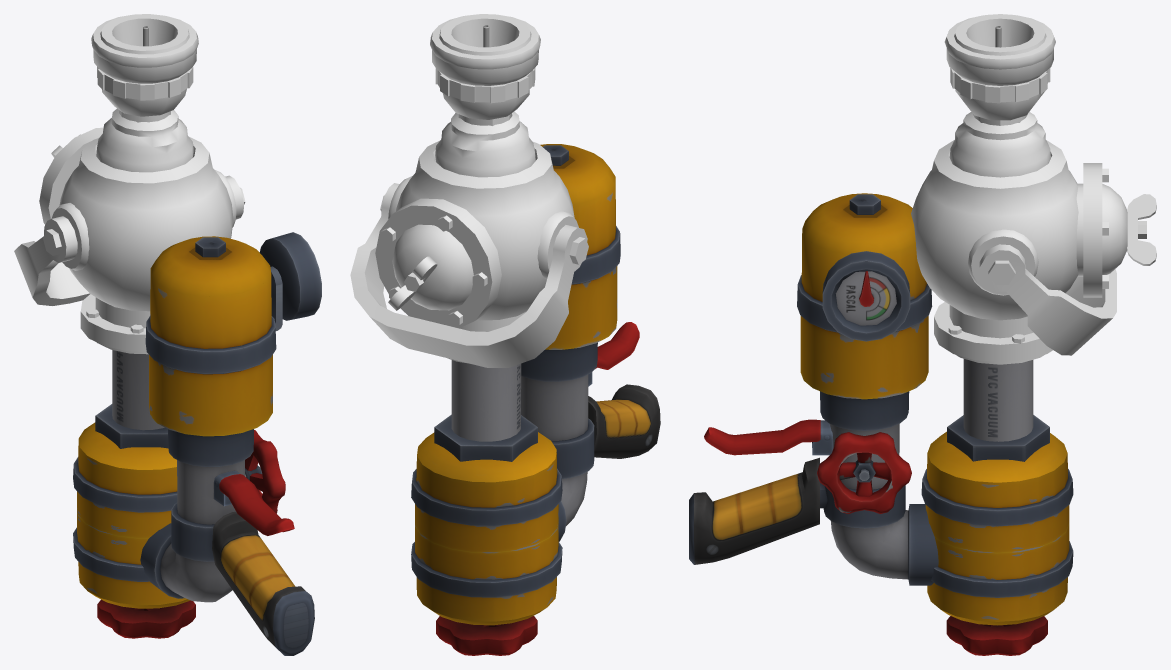
The model's file is fant_watergun_obj.fbx.
3 renders of one model, left to right at view 1: azimuth 30°, elevation 25°; view 2: azimuth 150°, elevation 25°; view 3: azimuth 270°, elevation 25°, orthographic. The views are drawn at different scales.
Visible parts, largest first — view 1: barrelBasic_geo; view 2: barrelBasic_geo; view 3: barrelBasic_geo.
Part boxes in pixels (x1,y1,x2,y2): barrelBasic_geo: [14, 14, 321, 655]; barrelBasic_geo: [350, 14, 660, 655]; barrelBasic_geo: [689, 14, 1156, 655].
Size of the model in its own units: 116 by 242 by 351.
Materials: 5 (3 with a texture image).
